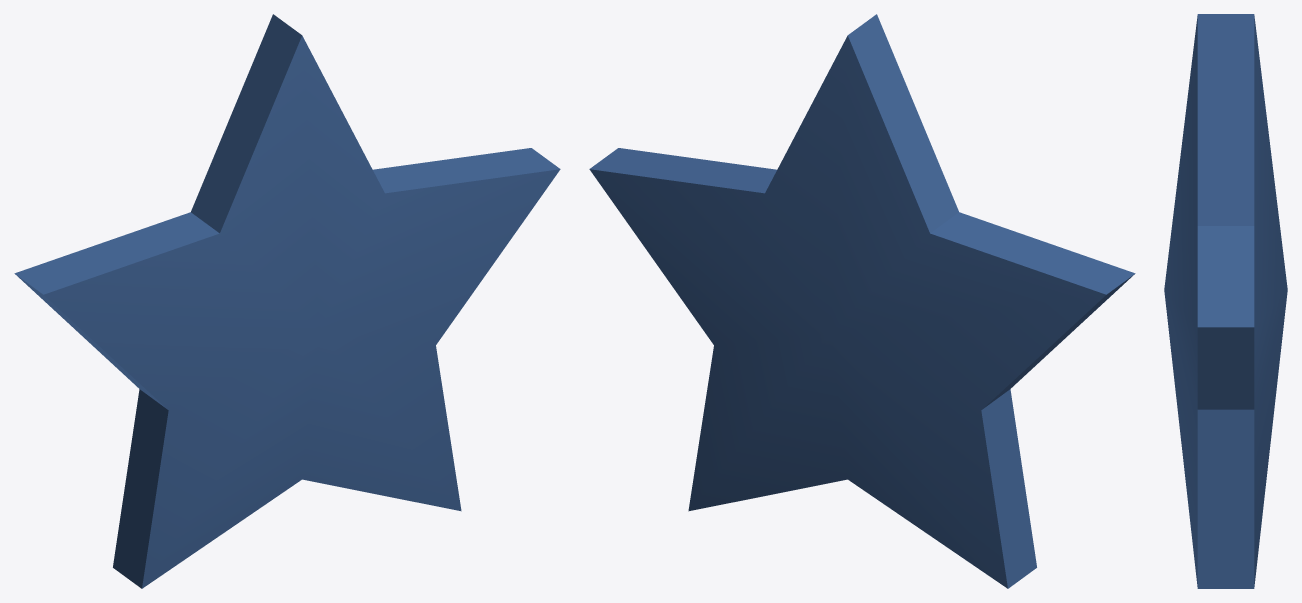
Rendered from 04 star.FBX.
3 renders of one model, left to right at view 1: azimuth 30°, elevation 25°; view 2: azimuth 150°, elevation 25°; view 3: azimuth 270°, elevation 25°, orthographic. The views are drawn at different scales.
Parts seen in each view (by area): view 1: SM_Icon_Star_01; view 2: SM_Icon_Star_01; view 3: SM_Icon_Star_01.
Part boxes in pixels (x1,y1,x2,y2): SM_Icon_Star_01: [14, 14, 560, 588]; SM_Icon_Star_01: [589, 14, 1135, 588]; SM_Icon_Star_01: [1164, 14, 1287, 588].
Bounding box in the file's own units: 51.23 × 48.74 × 10.92.
